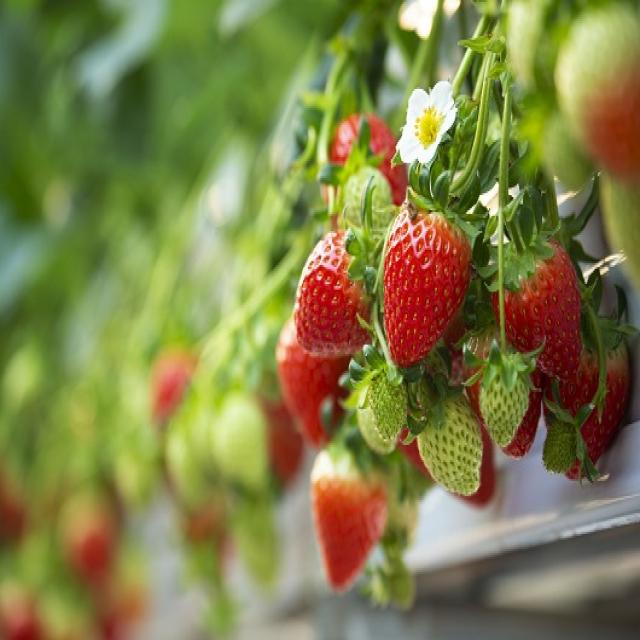ripe: (277, 177, 393, 371), (479, 210, 590, 388), (381, 193, 481, 376)
unripe: (412, 365, 486, 512), (346, 340, 413, 474), (476, 337, 540, 458)
